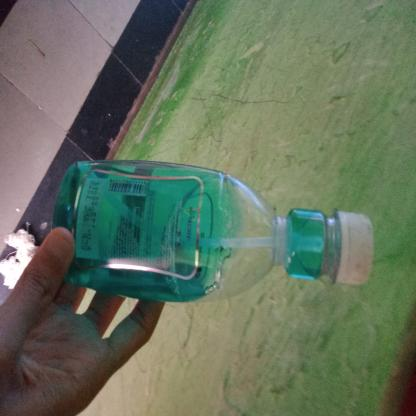bottle: (220, 53, 337, 416)
